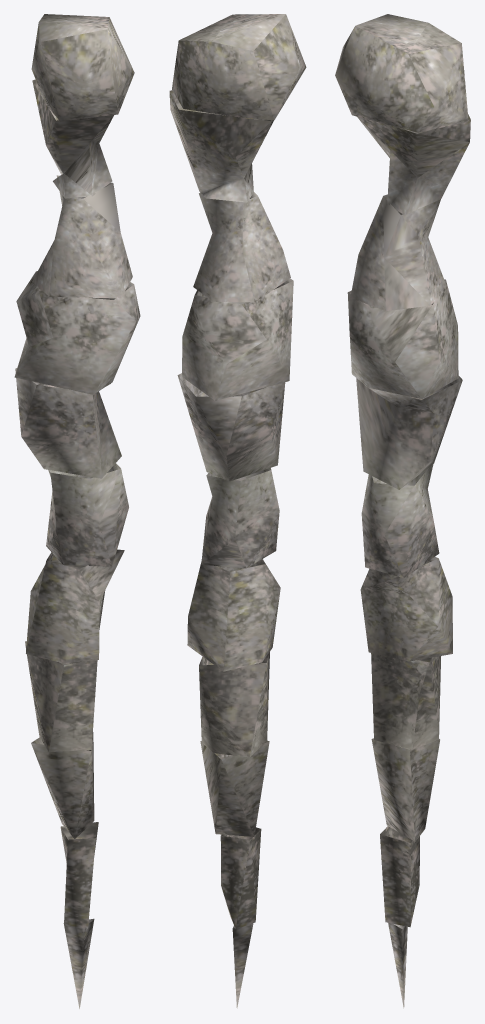
File: Stag2.fbx
3 renders of one model, left to right at view 1: azimuth 90°, elevation 25°; view 2: azimuth 150°, elevation 25°; view 3: azimuth 330°, elevation 25°, orthographic.
Visible parts, largest first — view 1: Cube; view 2: Cube; view 3: Cube.
Boxes of the visible parts, x1,y1,x2,y2 form: Cube: (14, 14, 140, 1008); Cube: (169, 14, 306, 1008); Cube: (335, 14, 470, 1008).
Size of the model in its own units: 282 by 2176 by 249.
Materials: 1 (1 with a texture image).
